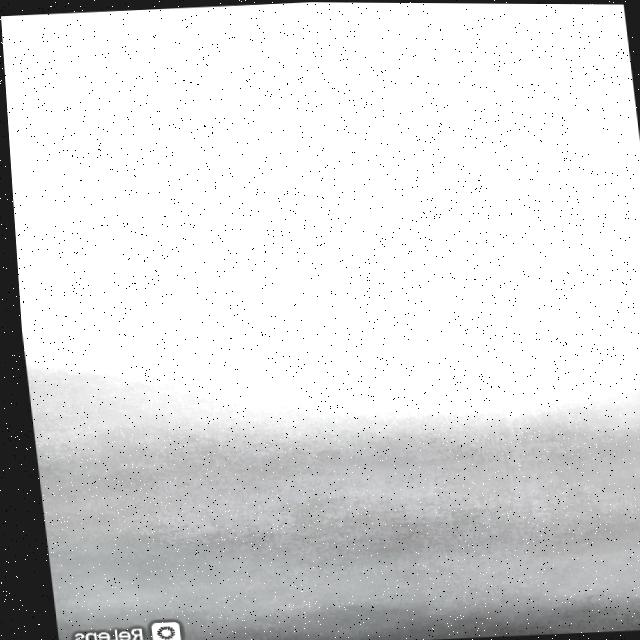Empty: (1, 2, 640, 612)
